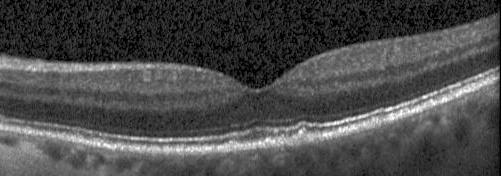retinal_drusen: (292, 127, 313, 145), (262, 135, 285, 148), (226, 140, 240, 151)
